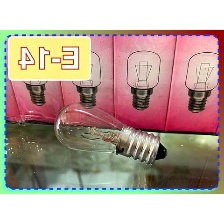book: (109, 27, 187, 138), (161, 25, 224, 138), (58, 27, 121, 136), (3, 30, 64, 130)
light_bulb: (48, 96, 171, 171)
